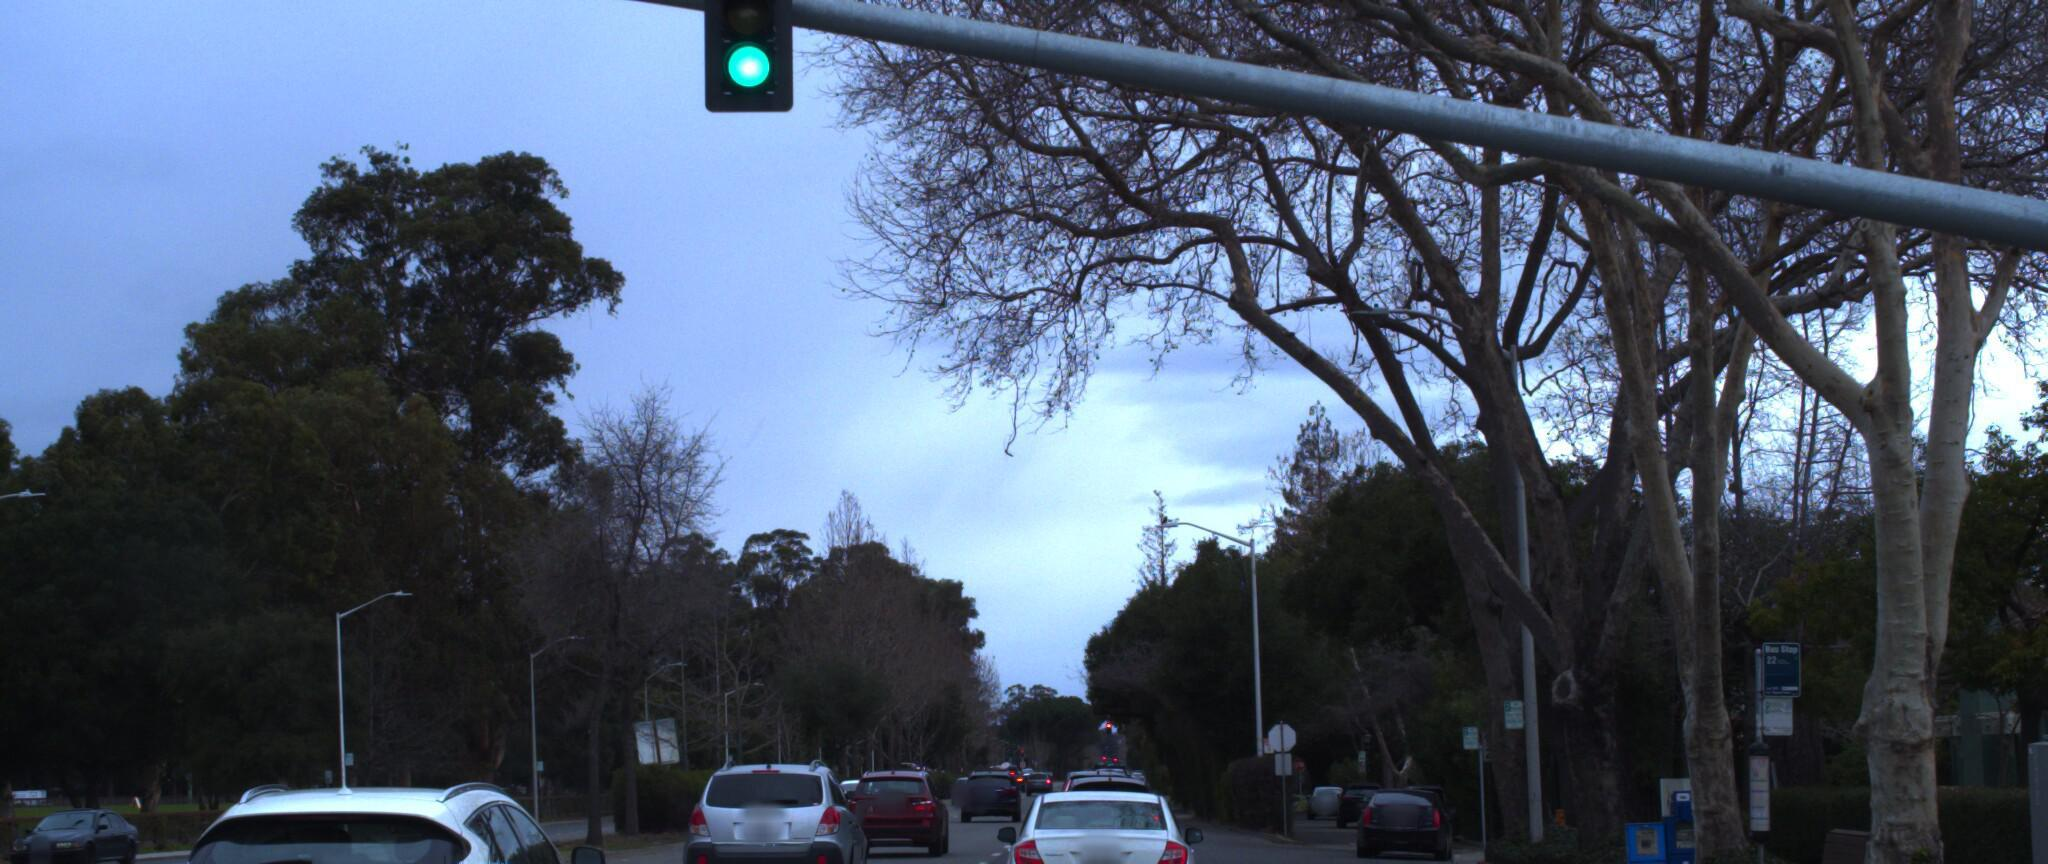car: (121, 779, 643, 864), (671, 745, 869, 864), (1000, 779, 1200, 864), (839, 745, 948, 842), (0, 797, 144, 864), (1351, 767, 1445, 848)
